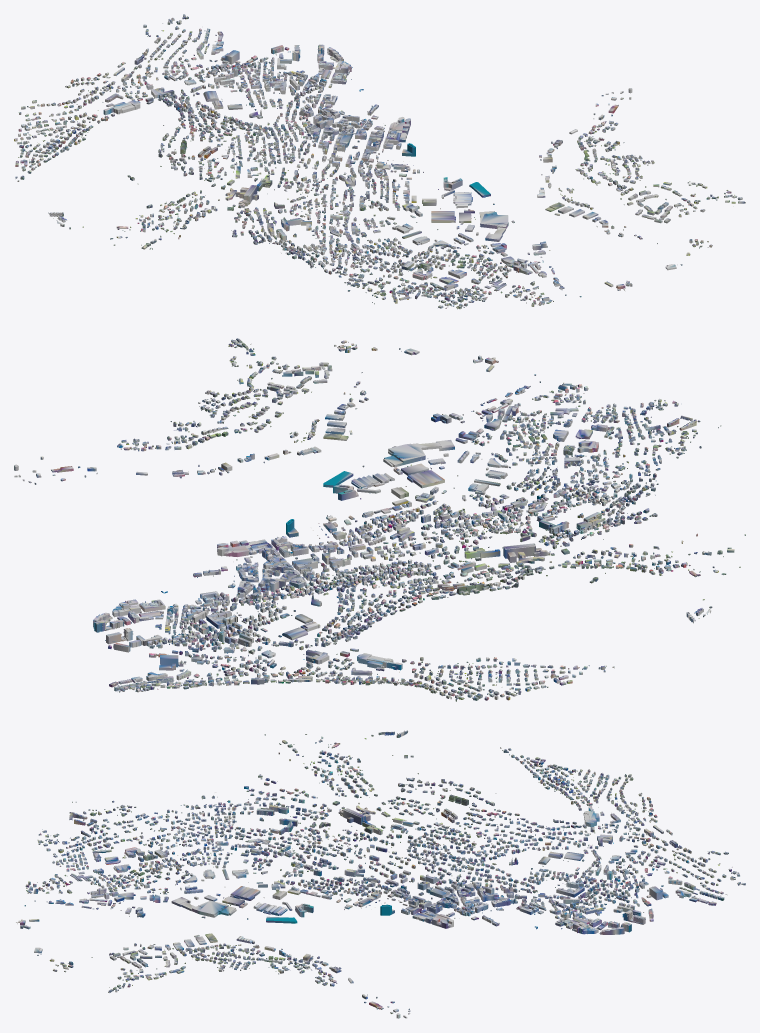
File: city_colored.glb
3 views of the same model, one above another, from view 1: azimuth 30°, elevation 25°; view 2: azimuth 150°, elevation 25°; view 3: azimuth 270°, elevation 25° (orthographic). The views are drawn at different scales.
Bounding box in the file's own units: 2639 × 152 × 2999.
